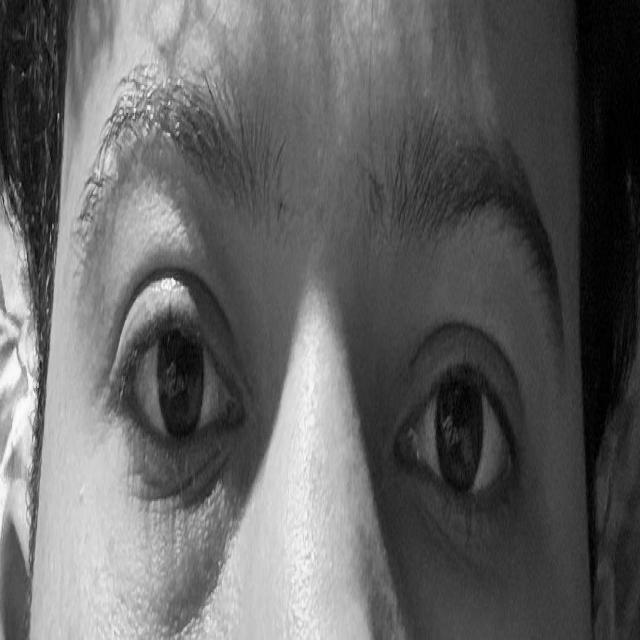real: (85, 120, 550, 597)
